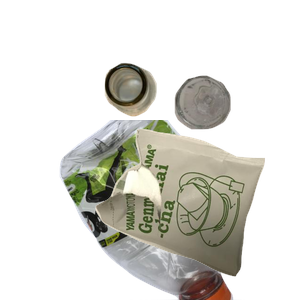glass: (172, 73, 300, 195)
metal: (102, 60, 252, 169)
plastic: (57, 120, 293, 300)
trash: (93, 126, 300, 300)
